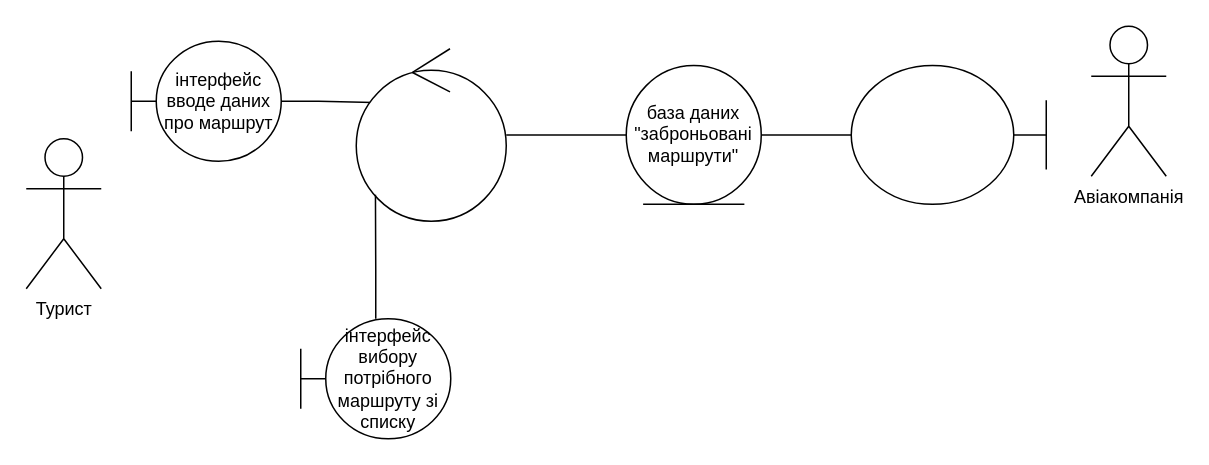
The diagram is 1209 pixels wide and 465 high, and some of its shapes have lost their labels. Each missing label, with the centre of its shape:
"пошук усіх маршрутів, що задовольняють даним вимогам" goes at point (430, 134).
"інтерфейс прсомотру заброньованих маршрутів(кількість вільних місць)" goes at point (948, 134).
